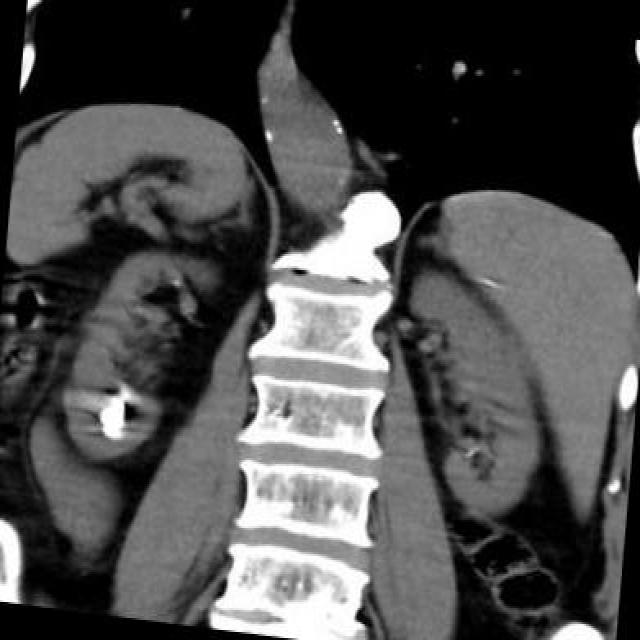Tas_Var: (96, 394, 127, 428), (97, 425, 127, 441), (461, 444, 479, 462), (166, 275, 183, 291), (117, 388, 132, 400)
